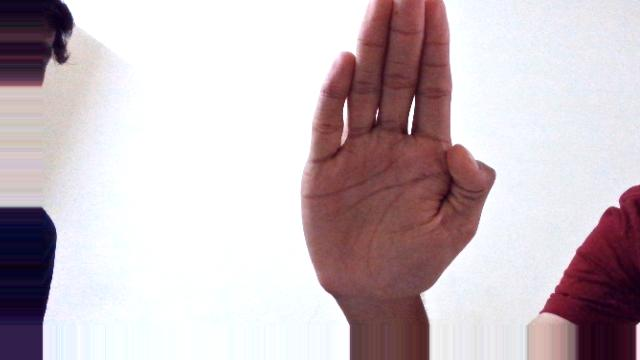Back: (301, 1, 497, 297)
